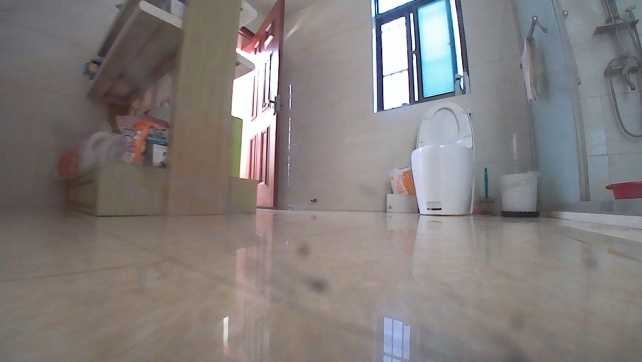toilet: (408, 98, 479, 215)
